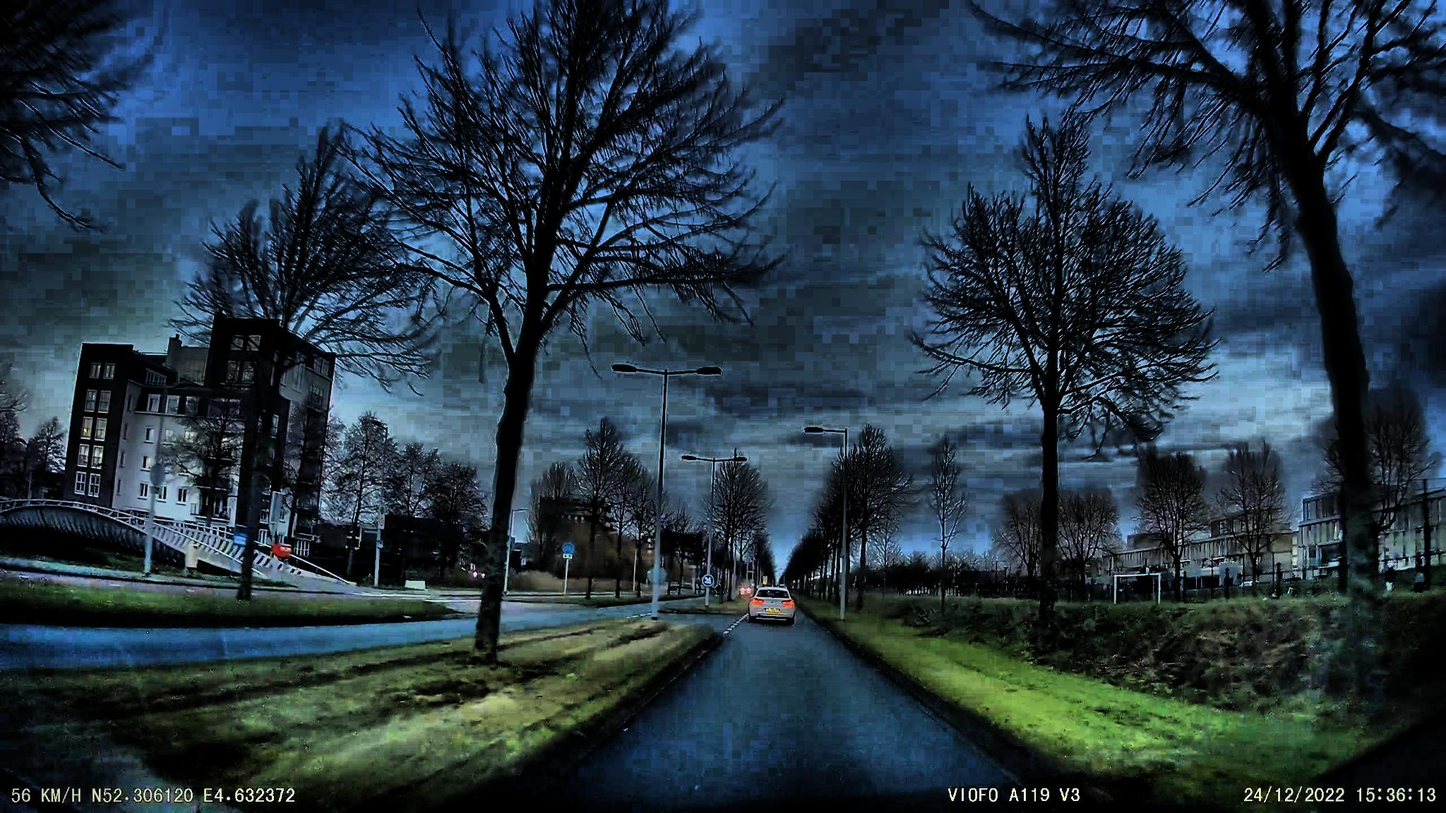Roads: (524, 614, 1038, 813)
